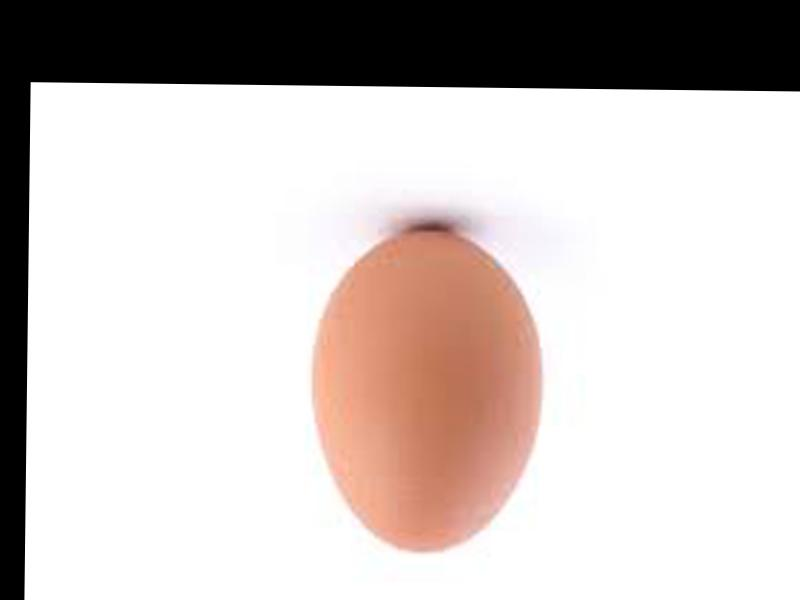Eggs: (313, 229, 547, 556)
